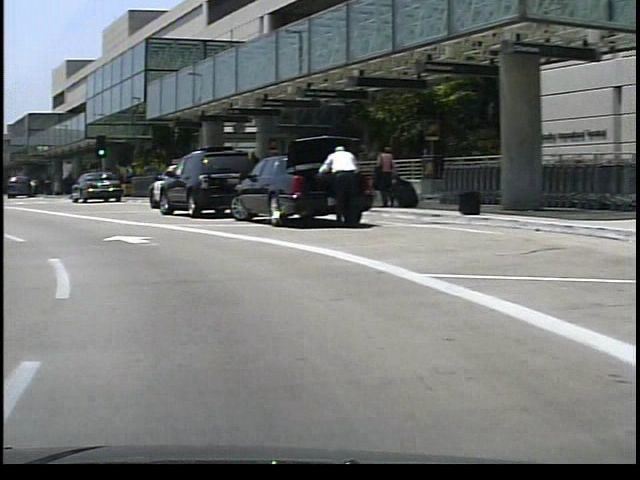person: (311, 141, 360, 232), (368, 142, 389, 213), (368, 145, 390, 212)
